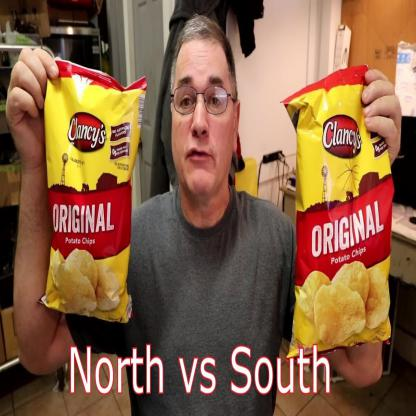potatochip: (279, 60, 396, 366), (35, 52, 150, 329)
